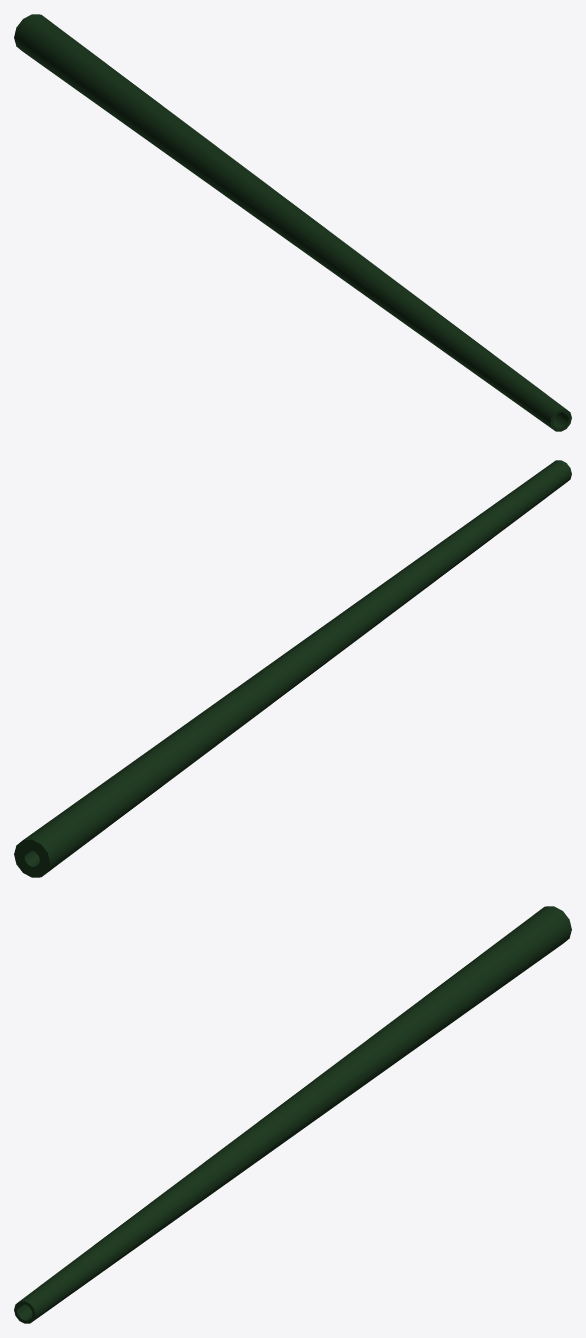
Rendered from ShermanCannon.fbx.
3 renders of one model, top to bottom at view 1: azimuth 30°, elevation 25°; view 2: azimuth 150°, elevation 25°; view 3: azimuth 330°, elevation 25°, orthographic.
Parts seen in each view (by area): view 1: Turret Cannon001; view 2: Turret Cannon001; view 3: Turret Cannon001.
Boxes of the visible parts, bbox=[...] form: Turret Cannon001: bbox=[14, 14, 571, 431]; Turret Cannon001: bbox=[14, 460, 571, 877]; Turret Cannon001: bbox=[14, 906, 571, 1323].
Size of the model in its own units: 0.00427 by 0.1076 by 0.00427.
